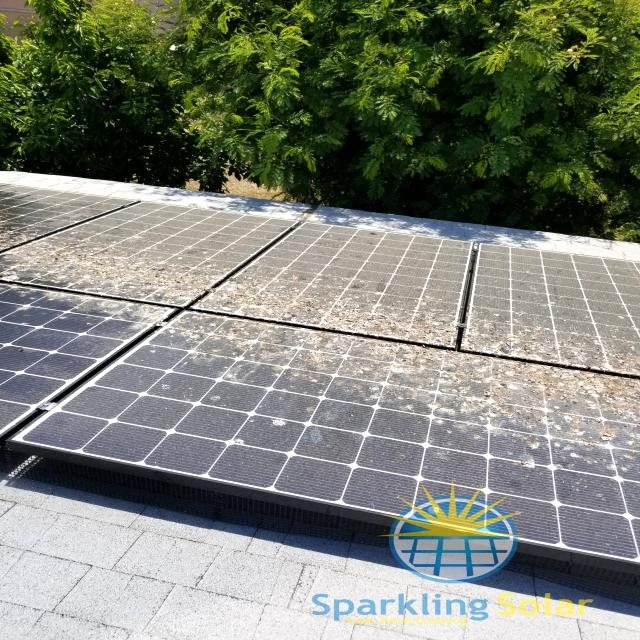bird: (205, 278, 344, 316), (494, 364, 580, 422), (92, 246, 192, 294), (172, 324, 270, 372), (283, 335, 359, 383), (590, 372, 636, 448), (398, 358, 473, 404), (356, 304, 456, 336), (554, 323, 630, 362), (472, 312, 546, 352), (22, 241, 89, 279), (504, 430, 552, 478), (248, 402, 308, 440), (210, 384, 251, 408)
